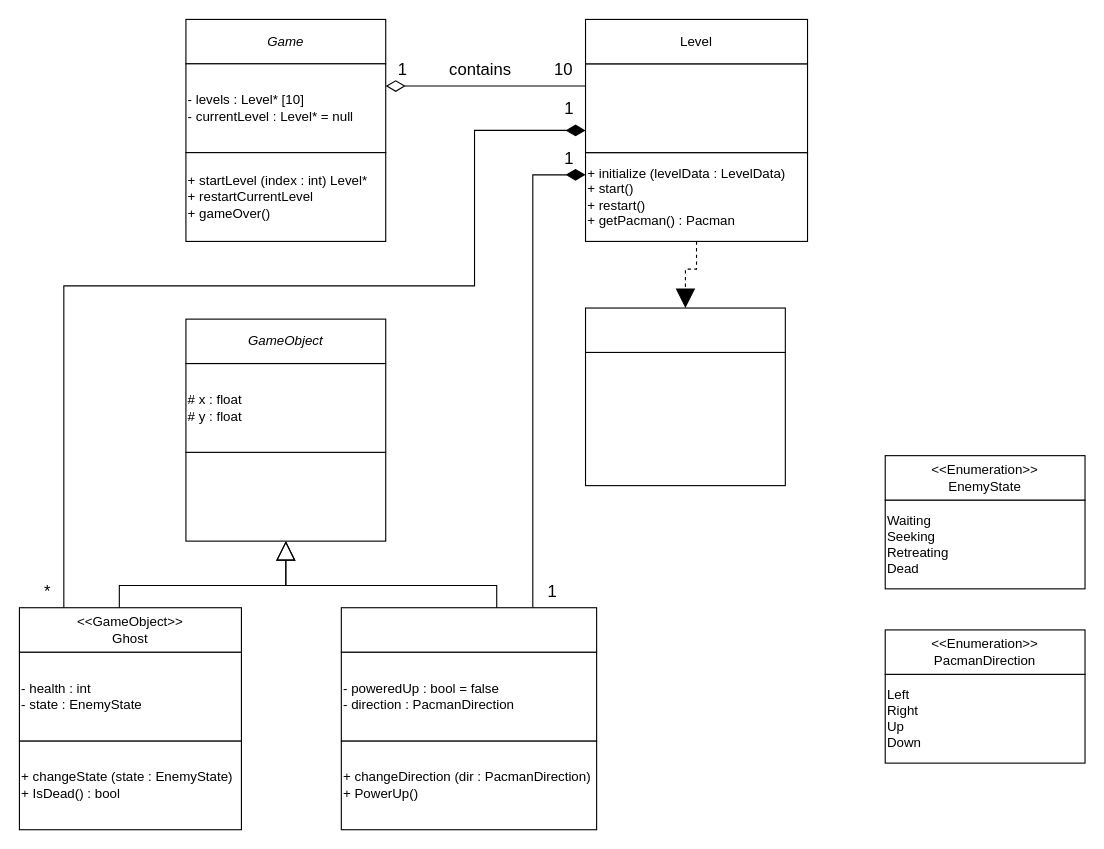
The diagram is 1104 pixels wide and 849 high, and some of its shapes have lost their labels. The centre of each missing label's shape, as x and y in pixels:
+ numGhost : int + duration : float + spawnX : float + spawnY : float: (684,418)
+ spawn(): (285,496)
- ghost : ArrayList - pacman : Pacman - duration : float = 0.0f: (696,108)
<<GameObject>> Pacman: (468,629)
LevelData: (684,329)
